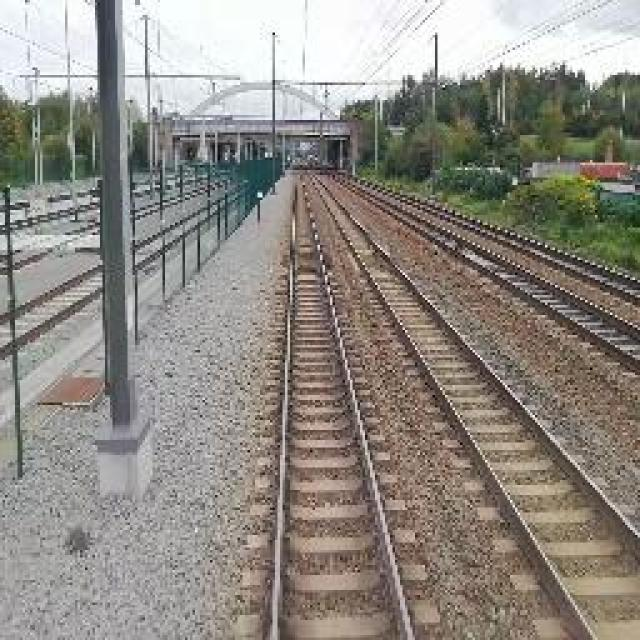rail: (243, 168, 458, 640)
